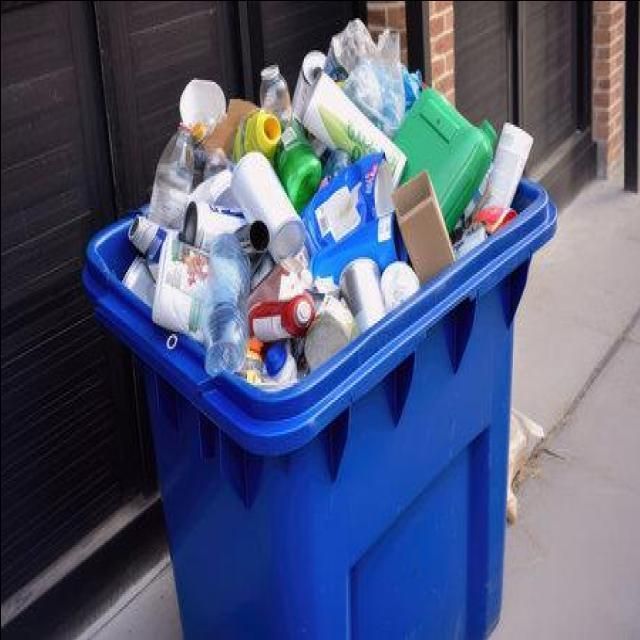Garbage: (98, 13, 540, 403)
Glass_bottle: (259, 64, 291, 120)
Plastic_Bag: (324, 17, 405, 137)
Plastic_Container: (394, 86, 496, 232), (301, 71, 406, 185), (230, 152, 304, 262), (309, 212, 407, 282), (485, 122, 532, 206), (247, 292, 314, 341), (230, 111, 280, 161)
Plastic_bottle: (201, 232, 250, 376), (148, 124, 193, 229), (274, 120, 321, 212)
tin_box: (339, 257, 384, 331), (291, 49, 325, 120)
